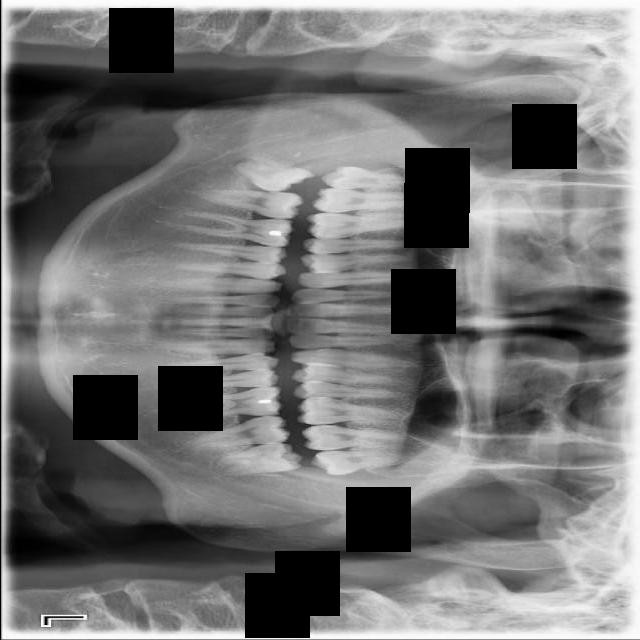3M ESPE Implant: (319, 165, 417, 191)
52: (250, 214, 296, 250), (242, 384, 283, 419)
73: (54, 600, 62, 604)
BioHorizons Implant: (301, 421, 407, 451)
BioLife Implant: (310, 448, 404, 476)
Biomet 3i Implant: (213, 439, 304, 479)
Blue Sky Bio Implant: (194, 414, 291, 449)
Caries: (310, 183, 414, 214)
Implant: (200, 186, 304, 221)
Keystone Dental Implant: (231, 148, 315, 205)
